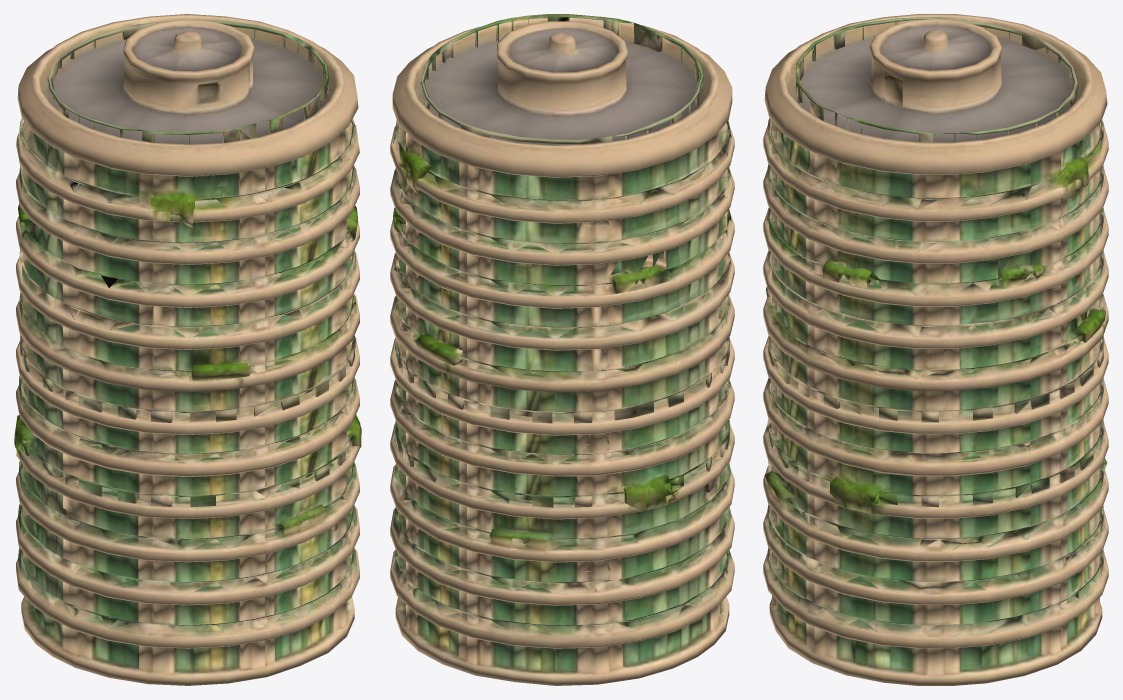
The model's file is round_tower.glb.
3 views of the same model, side by side, from view 1: azimuth 30°, elevation 25°; view 2: azimuth 150°, elevation 25°; view 3: azimuth 270°, elevation 25° (orthographic).
Visible parts, largest first — view 1: tripo_node_21e84011-4758-49af-86d9-04dfd265f98b; view 2: tripo_node_21e84011-4758-49af-86d9-04dfd265f98b; view 3: tripo_node_21e84011-4758-49af-86d9-04dfd265f98b.
Boxes of the visible parts, x1,y1,x2,y2 form: tripo_node_21e84011-4758-49af-86d9-04dfd265f98b: (14, 14, 361, 685); tripo_node_21e84011-4758-49af-86d9-04dfd265f98b: (390, 14, 734, 685); tripo_node_21e84011-4758-49af-86d9-04dfd265f98b: (763, 14, 1108, 685).
Bounding box in the file's own units: 25.64 × 48 × 25.83.
1 material, 1 textured.
